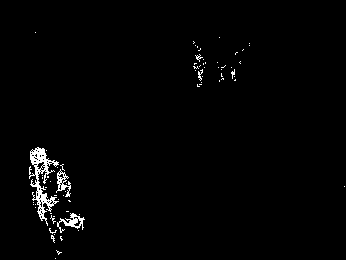person: (27, 147, 84, 260)
